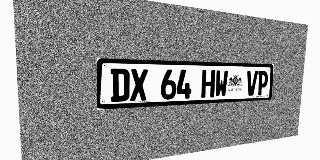4: (176, 69, 192, 99)
6: (161, 69, 177, 100)
D: (111, 68, 129, 102)
H: (201, 70, 215, 98)
P: (257, 71, 268, 95)
V: (246, 71, 258, 96)
W: (214, 70, 228, 97)
X: (130, 69, 148, 101)
